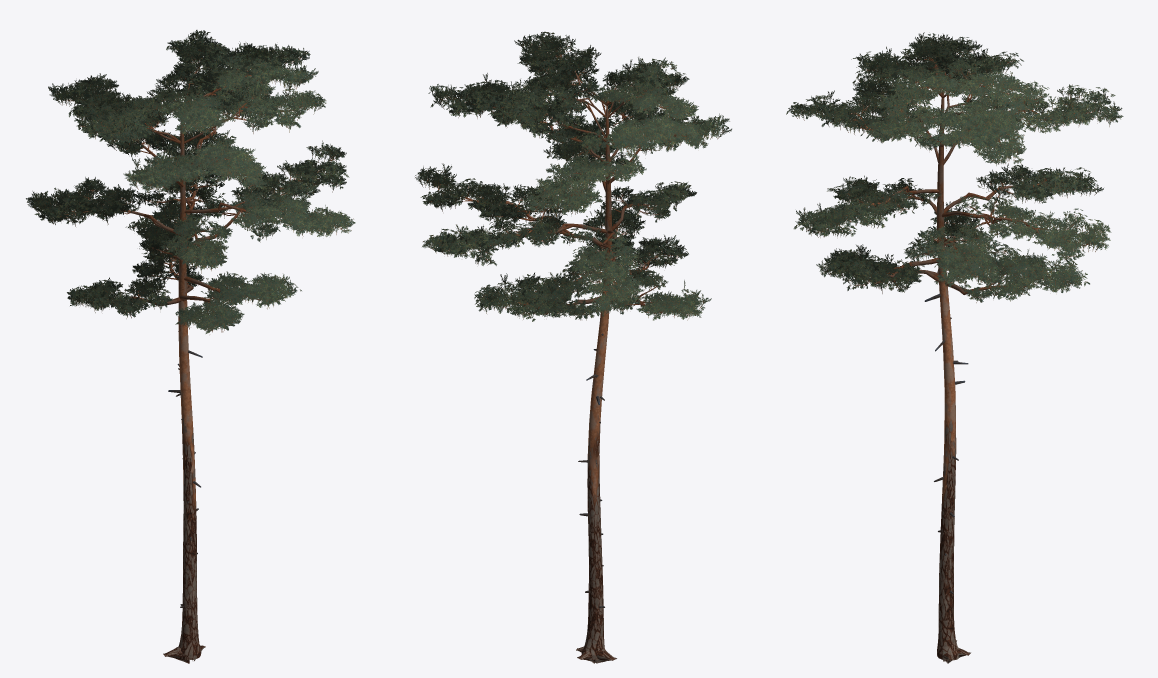
The model's file is pine.glb.
3 renders of one model, left to right at view 1: azimuth 30°, elevation 25°; view 2: azimuth 150°, elevation 25°; view 3: azimuth 270°, elevation 25°, orthographic. The views are drawn at different scales.
Parts seen in each view (by area): view 1: needles, needles_lod1_far, trunk, branches, trunk_lod1_far, branches_lod1_far; view 2: needles, needles_lod1_far, trunk, branches, trunk_lod1_far, branches_lod1_far; view 3: needles, needles_lod1_far, trunk, branches, trunk_lod1_far, branches_lod1_far.
Part boxes in pixels (bbox=[...]): needles: bbox=[26, 30, 355, 333]; needles_lod1_far: bbox=[27, 34, 353, 332]; trunk: bbox=[163, 121, 205, 663]; branches: bbox=[47, 50, 336, 607]; trunk_lod1_far: bbox=[163, 133, 201, 663]; branches_lod1_far: bbox=[64, 50, 335, 606]; needles: bbox=[415, 31, 729, 321]; needles_lod1_far: bbox=[415, 34, 731, 317]; trunk: bbox=[576, 106, 616, 662]; branches: bbox=[427, 41, 688, 607]; trunk_lod1_far: bbox=[577, 128, 614, 663]; branches_lod1_far: bbox=[438, 50, 705, 606]; needles: bbox=[786, 33, 1123, 302]; needles_lod1_far: bbox=[789, 32, 1122, 301]; trunk: bbox=[937, 92, 970, 663]; branches: bbox=[793, 50, 1111, 593]; trunk_lod1_far: bbox=[937, 109, 969, 663]; branches_lod1_far: bbox=[839, 51, 1100, 591].
Bounding box in the file's own units: 11.06 × 21.02 × 11.23.
4 materials, 4 textured.
